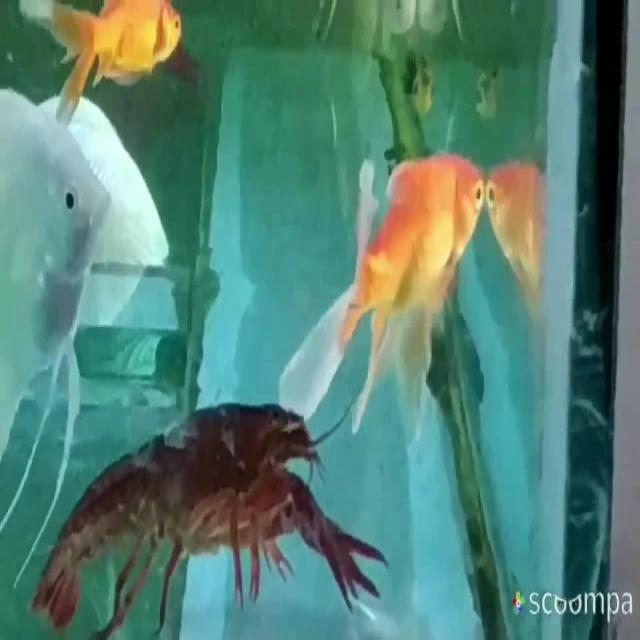GoldFish: (272, 141, 499, 459), (34, 0, 195, 124)
